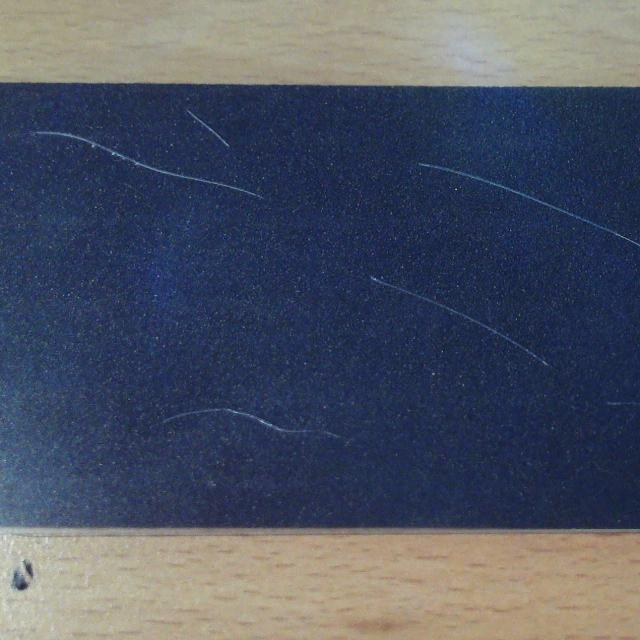defect: (419, 163, 639, 248), (366, 276, 554, 374), (33, 131, 265, 201), (152, 397, 345, 448), (183, 105, 233, 155)
